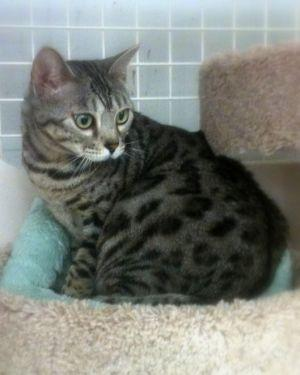bengal: (25, 37, 149, 172)
